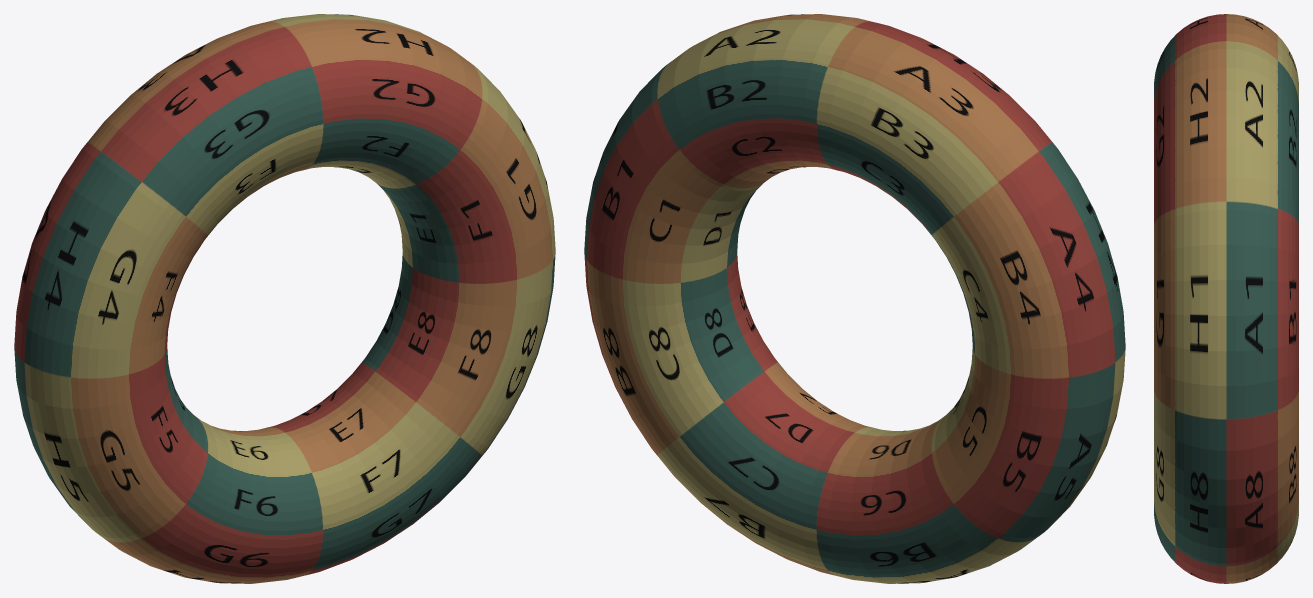
The model's file is texture_torus_R2_r7.glb.
3 renders of one model, left to right at view 1: azimuth 30°, elevation 25°; view 2: azimuth 150°, elevation 25°; view 3: azimuth 270°, elevation 25°, orthographic. The views are drawn at different scales.
Visible parts, largest first — view 1: world; view 2: world; view 3: world.
Boxes of the visible parts, box(x1,y1,x2,y2) form: world: box(14, 14, 555, 583); world: box(584, 14, 1125, 583); world: box(1154, 14, 1298, 583).
Size of the model in its own units: 15.2 by 15.17 by 3.86.
1 material, 1 textured.
